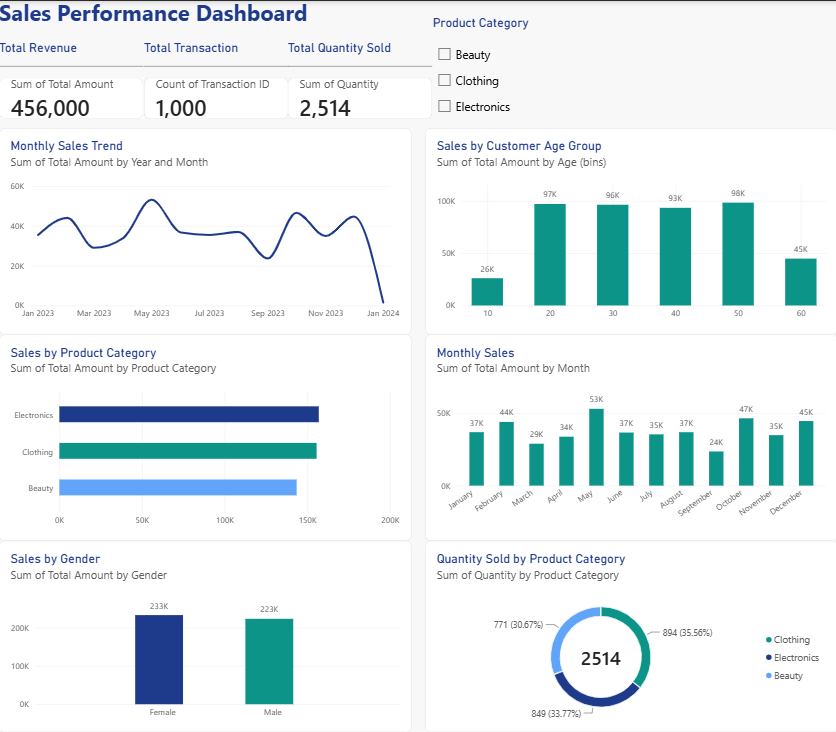

What the dashboard file says about the page in this screenshot:
{"tool":"powerbi","page":{"name":"Page 1","canvas":[1920,1080],"ordinal":0},"visuals":[{"type":"cardVisual","title":"Total Revenue","fields":{"Data":["Sum(retail_sales_dataset.Total Amount)"]},"box":[0,64.3,210,113.5],"z":0},{"type":"cardVisual","title":"Total Transaction","fields":{"Data":["CountNonNull(retail_sales_dataset.Transaction ID)"]},"box":[210,64.3,210,113.5],"z":1000},{"type":"cardVisual","title":"Total Quantity Sold","fields":{"Data":["Sum(retail_sales_dataset.Quantity)"]},"box":[420,64.3,210,113.5],"z":2000},{"type":"lineChart","title":"Monthly Sales Trend","fields":{"Category":["retail_sales_dataset.Date.Variation.Date Hierarchy.Year","retail_sales_dataset.Date.Variation.Date Hierarchy.Month"],"Y":["Sum(retail_sales_dataset.Total Amount)"]},"box":[0,190,600,300],"z":3000},{"type":"clusteredBarChart","title":"Sales by Product Category","fields":{"Category":["retail_sales_dataset.Product Category"],"Y":["Sum(retail_sales_dataset.Total Amount)"]},"box":[0,490,600,300],"z":4000},{"type":"clusteredColumnChart","title":"Sales by Gender","fields":{"Category":["retail_sales_dataset.Gender"],"Y":["Sum(retail_sales_dataset.Total Amount)"]},"box":[0,790,600,280],"z":5000},{"type":"clusteredColumnChart","title":"Sales by Customer Age Group","fields":{"Category":["retail_sales_dataset.Age (bins)"],"Y":["Sum(retail_sales_dataset.Total Amount)"]},"box":[620,190,600,300],"z":6000},{"type":"clusteredColumnChart","title":"Monthly Sales","fields":{"Category":["retail_sales_dataset.Date.Variation.Date Hierarchy.Month"],"Y":["Sum(retail_sales_dataset.Total Amount)"]},"box":[620,490,600,300],"z":7000},{"type":"donutChart","title":"Quantity Sold by Product Category","fields":{"Category":["retail_sales_dataset.Product Category"],"Y":["Sum(retail_sales_dataset.Quantity)"]},"box":[620,790,600,280],"z":8000},{"type":"slicer","title":"Product Category","fields":{"Values":["retail_sales_dataset.Product Category"]},"box":[630,27.1,600,150],"z":9000},{"type":"textbox","box":[0,0,600,62.9],"z":9002}]}

Visuals, with their boxes on the page's 1920x1080 design canvas (x1, y1, x2, y2). These are canvas units, not pixel positions in the 836x732 screenshot, which may show the page scaled, cropped or inside an application window:
"Total Revenue" cardVisual: detection(0, 64, 210, 178)
"Total Transaction" cardVisual: detection(210, 64, 420, 178)
"Total Quantity Sold" cardVisual: detection(420, 64, 630, 178)
"Monthly Sales Trend" lineChart: detection(0, 190, 600, 490)
"Sales by Product Category" clusteredBarChart: detection(0, 490, 600, 790)
"Sales by Gender" clusteredColumnChart: detection(0, 790, 600, 1070)
"Sales by Customer Age Group" clusteredColumnChart: detection(620, 190, 1220, 490)
"Monthly Sales" clusteredColumnChart: detection(620, 490, 1220, 790)
"Quantity Sold by Product Category" donutChart: detection(620, 790, 1220, 1070)
"Product Category" slicer: detection(630, 27, 1230, 177)
textbox: detection(0, 0, 600, 63)
